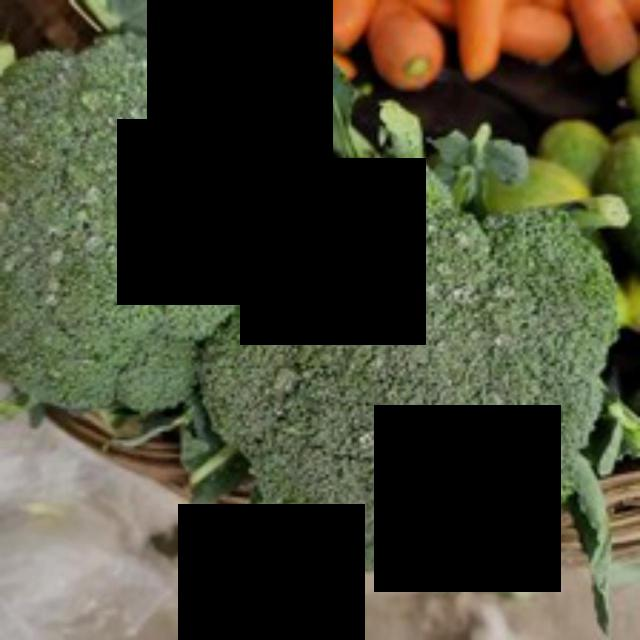broccoli: (209, 169, 619, 586)
